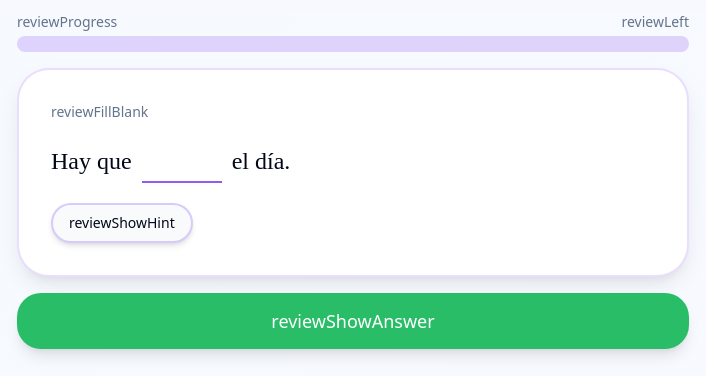
Scenario: ReviewSession › production formats › keeps the native gloss behind a tap at balanced immersion
Click the button "reviewShowHint": (122, 223) [51,203,193,243]
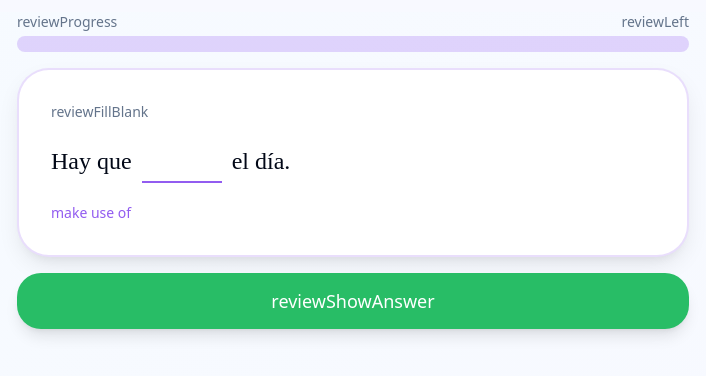
Expected: the text with test id "review-tap-gloss" reads "make use of", [51,203,131,222]
